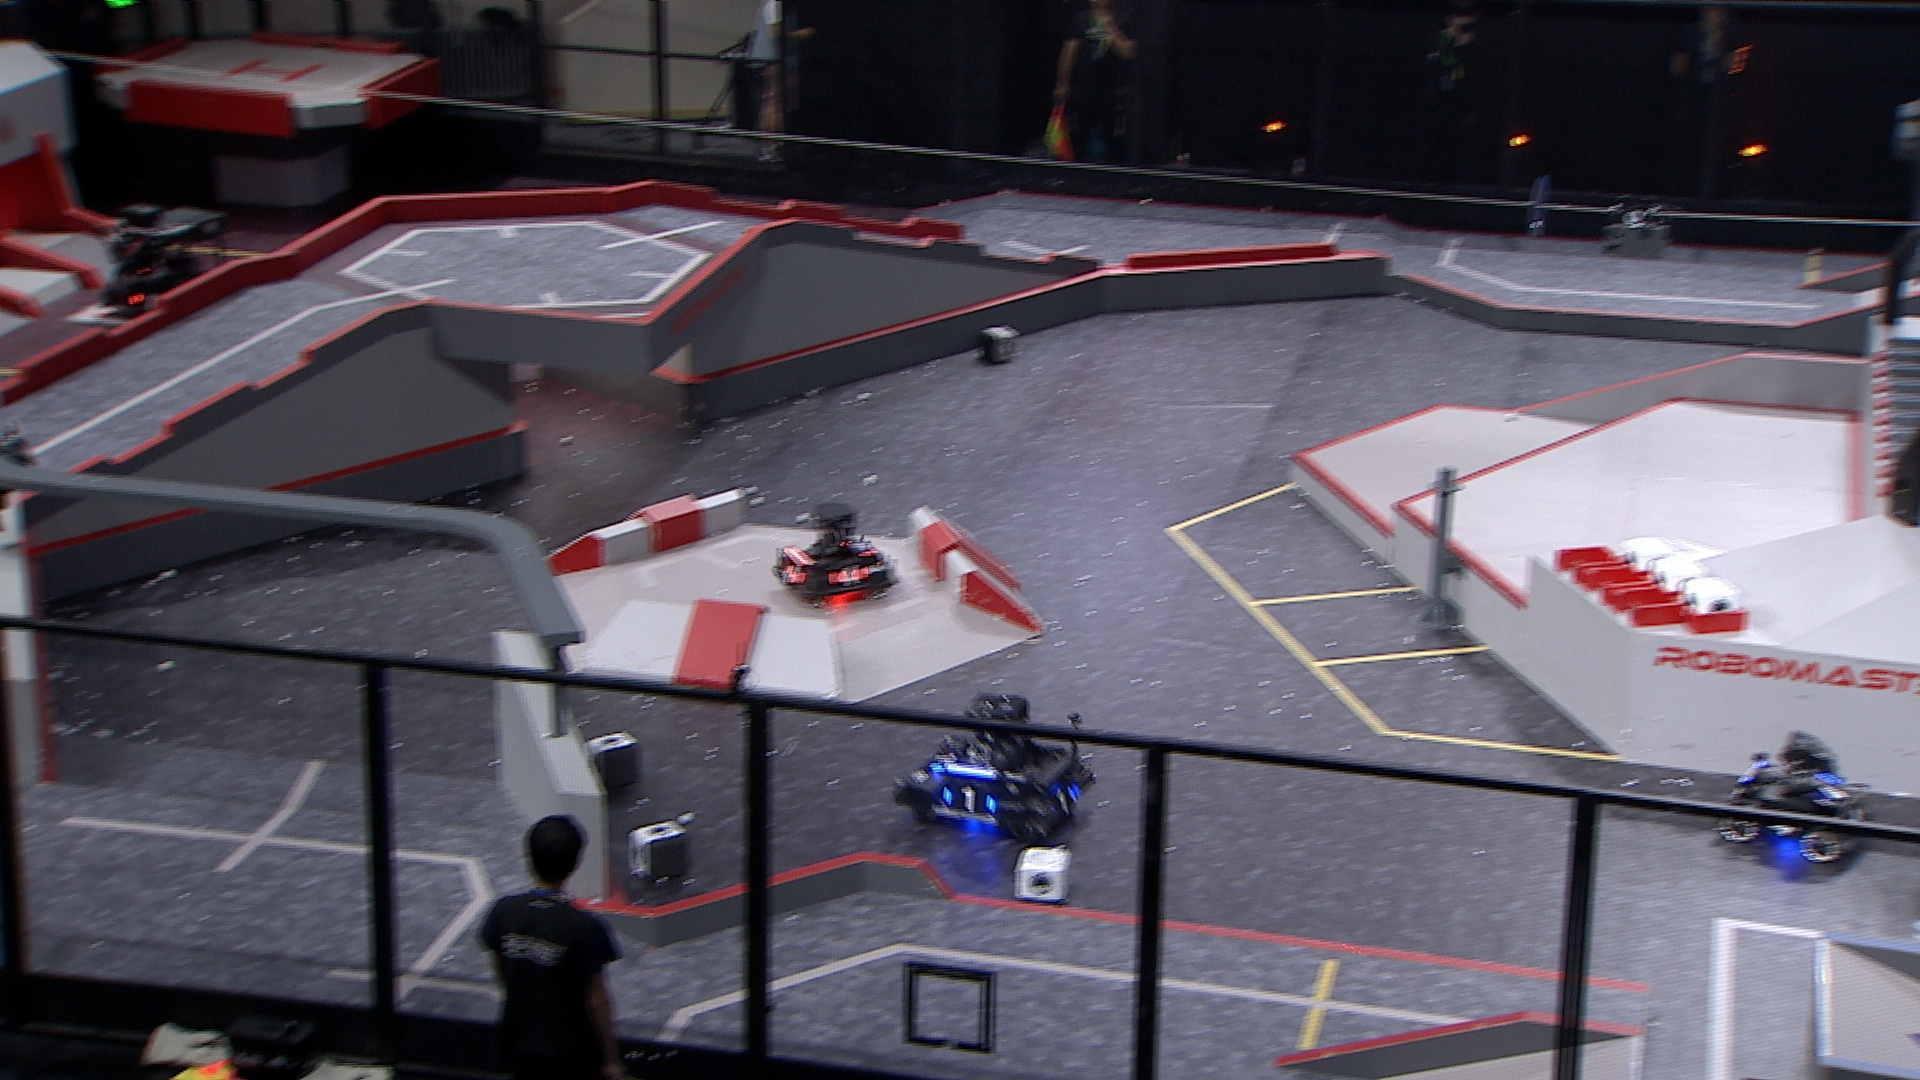armor: (936, 785, 1000, 818), (1051, 787, 1084, 816), (124, 291, 160, 318), (1816, 781, 1850, 806), (832, 567, 870, 589), (926, 752, 959, 775), (782, 560, 806, 588), (851, 538, 877, 559), (1851, 804, 1875, 822)
car: (895, 687, 1096, 837), (1716, 731, 1887, 861), (84, 206, 240, 342), (771, 500, 897, 609)
